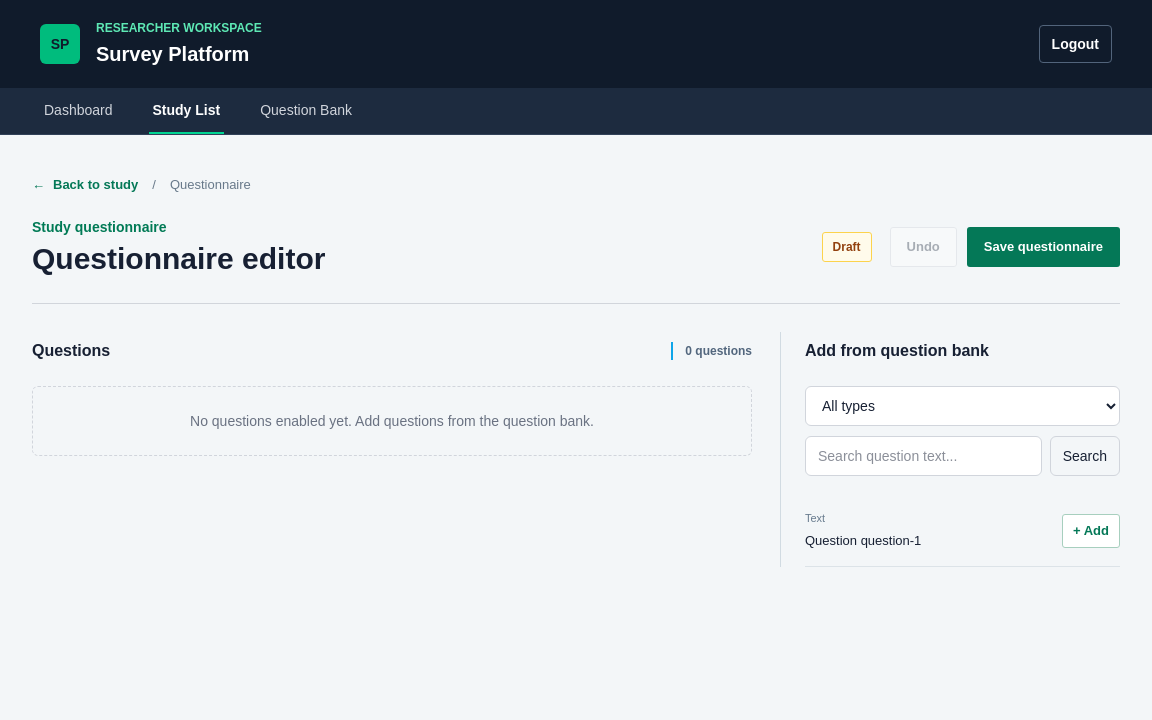
Test: M4 questionnaire editor browser behavior › marks edits dirty, blocks in-app navigation, guards beforeunload, and clears both after undo
Expected: the text "Question question-1" is shown, [805, 533, 921, 548]
Click the button "+ Add". click: (1091, 531)
box: [1062, 514, 1120, 548]
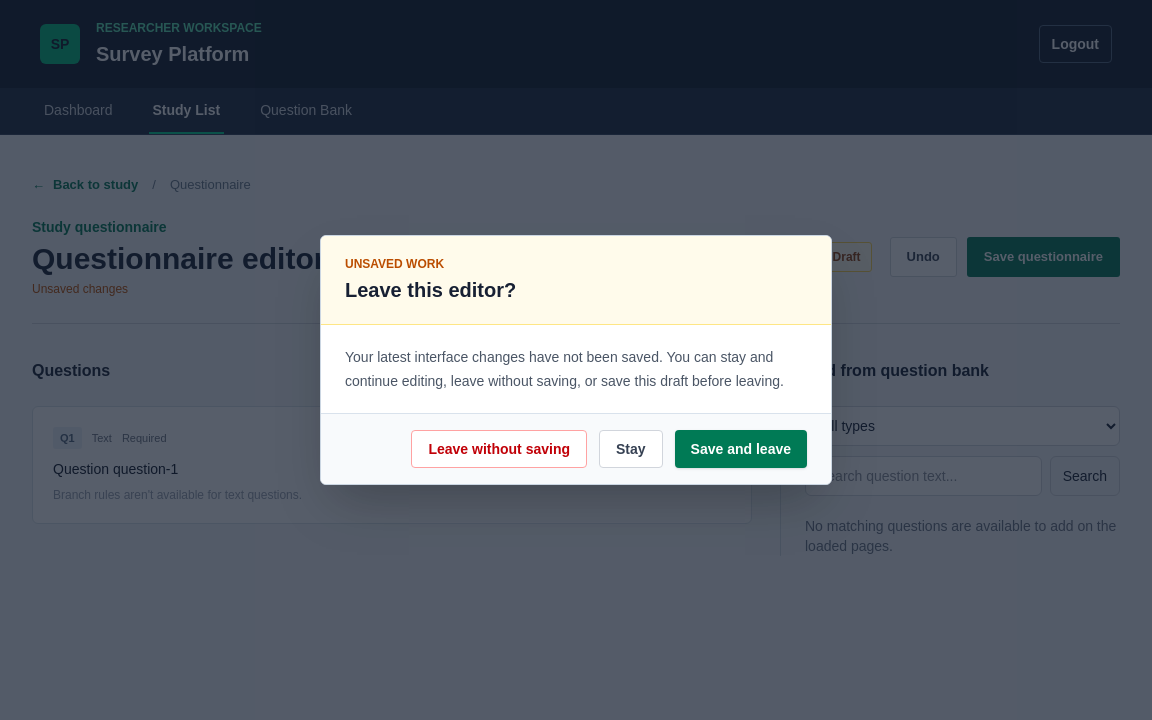
Expected: the text "Unsaved changes" is shown, [32, 282, 128, 296]
Expected: the dialog is shown, [320, 235, 832, 485]
Click the button "Stay". click: (631, 449)
box: [599, 430, 663, 468]
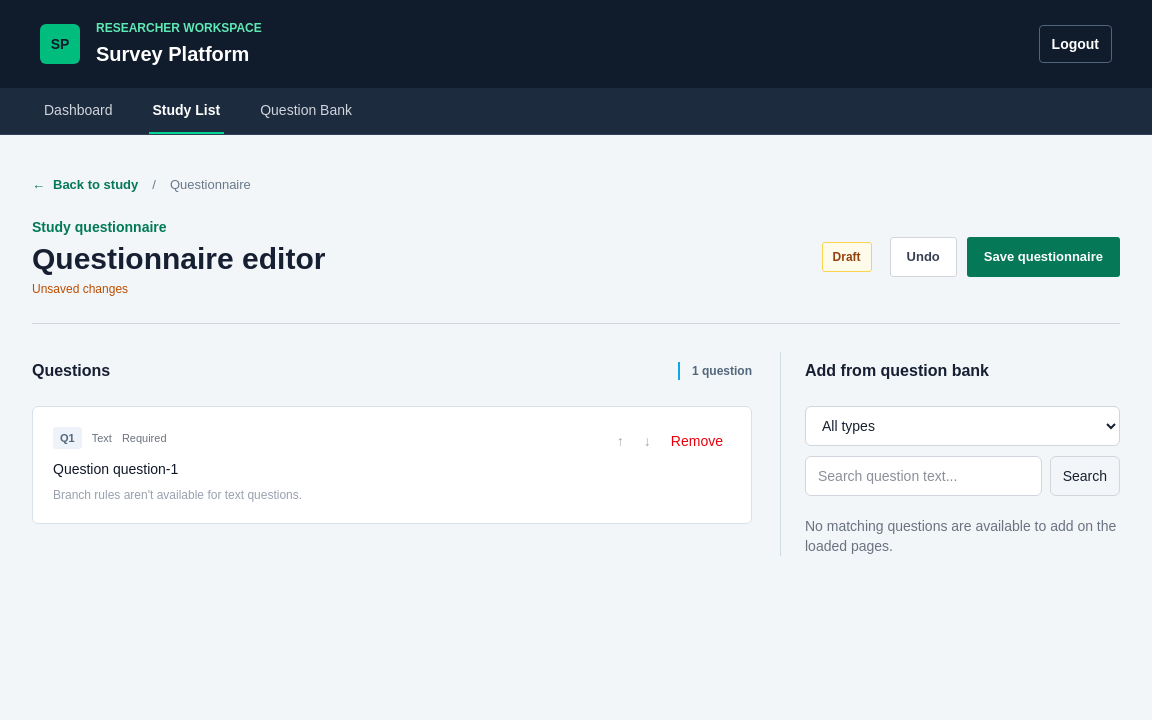
Expected: the heading "Questionnaire editor" is shown, [32, 240, 325, 276]
Click the button "Undo". click: (923, 256)
box: [890, 236, 957, 276]
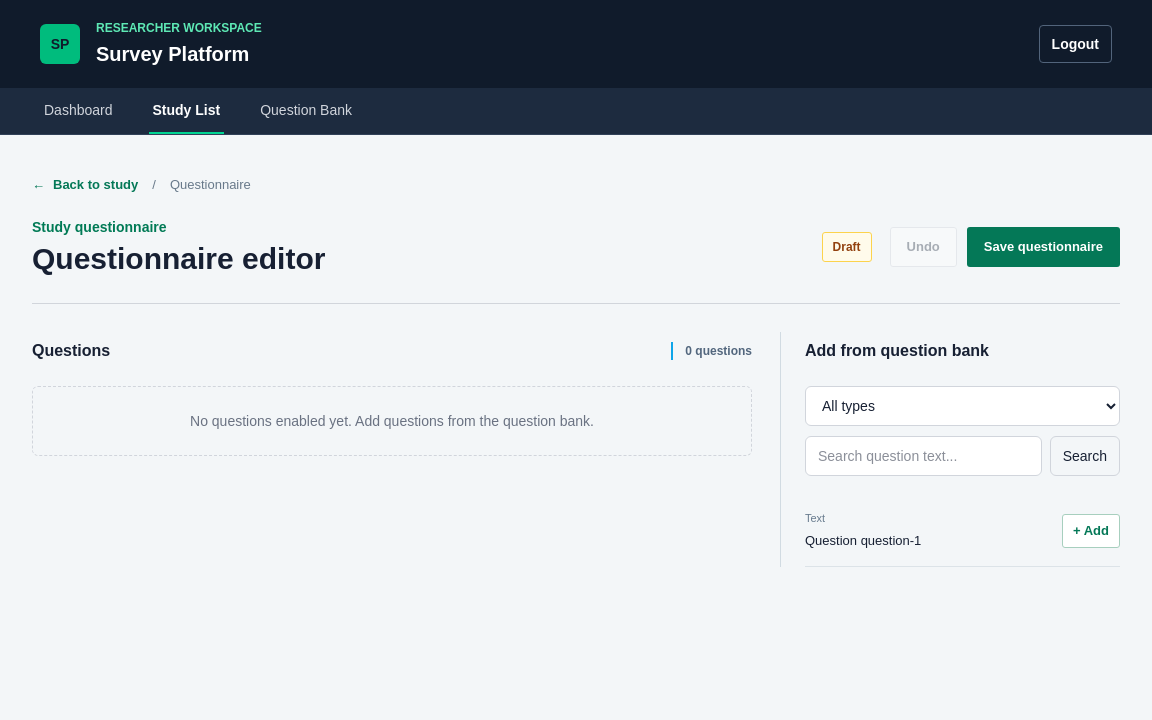
Expected: the text "Unsaved changes" is gone
